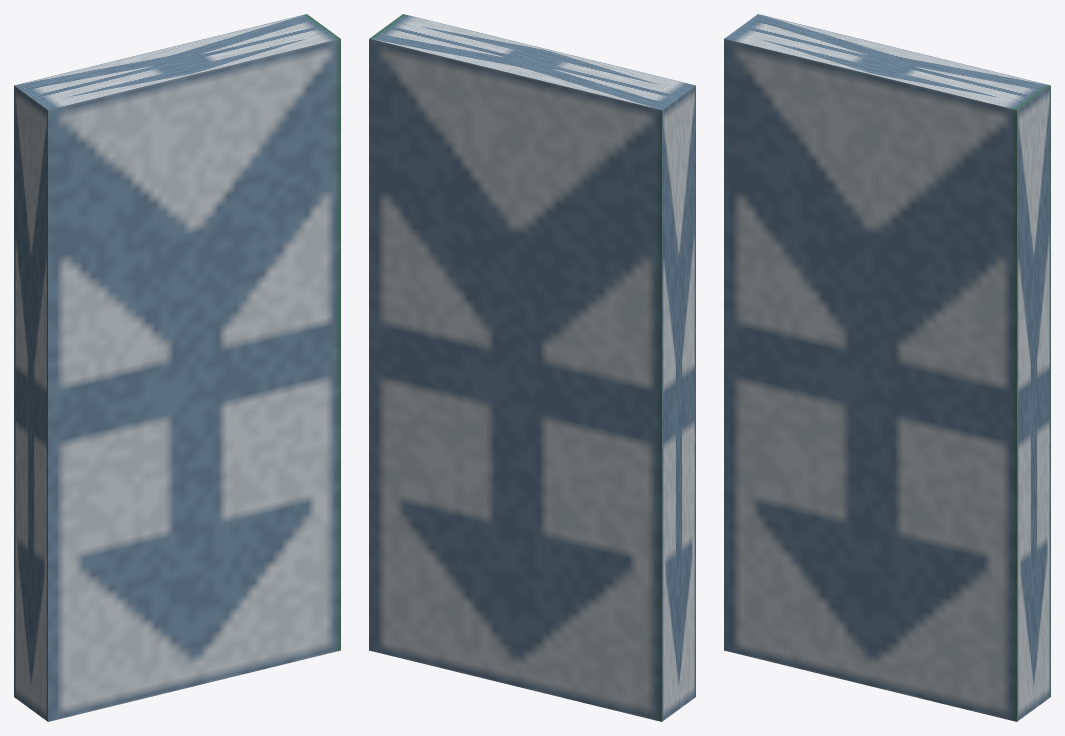
File: DoorSlim.FBX
The picture shows the model from 3 angles, left to right: view 1: azimuth 30°, elevation 25°; view 2: azimuth 150°, elevation 25°; view 3: azimuth 330°, elevation 25°; orthographic projection.
Visible parts, largest first — view 1: DoorSlim; view 2: DoorSlim; view 3: DoorSlim.
Boxes of the visible parts, x1,y1,x2,y2 form: DoorSlim: [14, 14, 340, 721]; DoorSlim: [369, 14, 695, 721]; DoorSlim: [724, 14, 1050, 721].
Bounding box in the file's own units: 20.04 × 40 × 4.02.
1 material, 1 textured.
